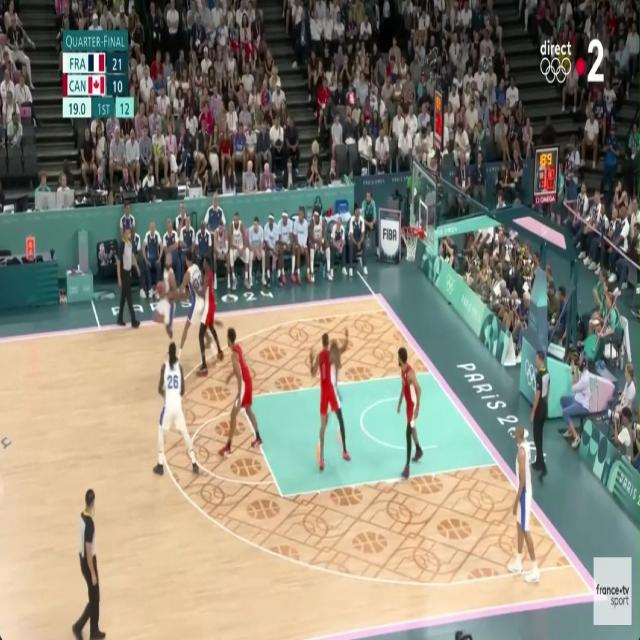ball_handler: (154, 254, 178, 352)
